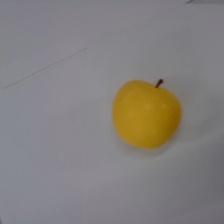yellow: (112, 77, 181, 149)
